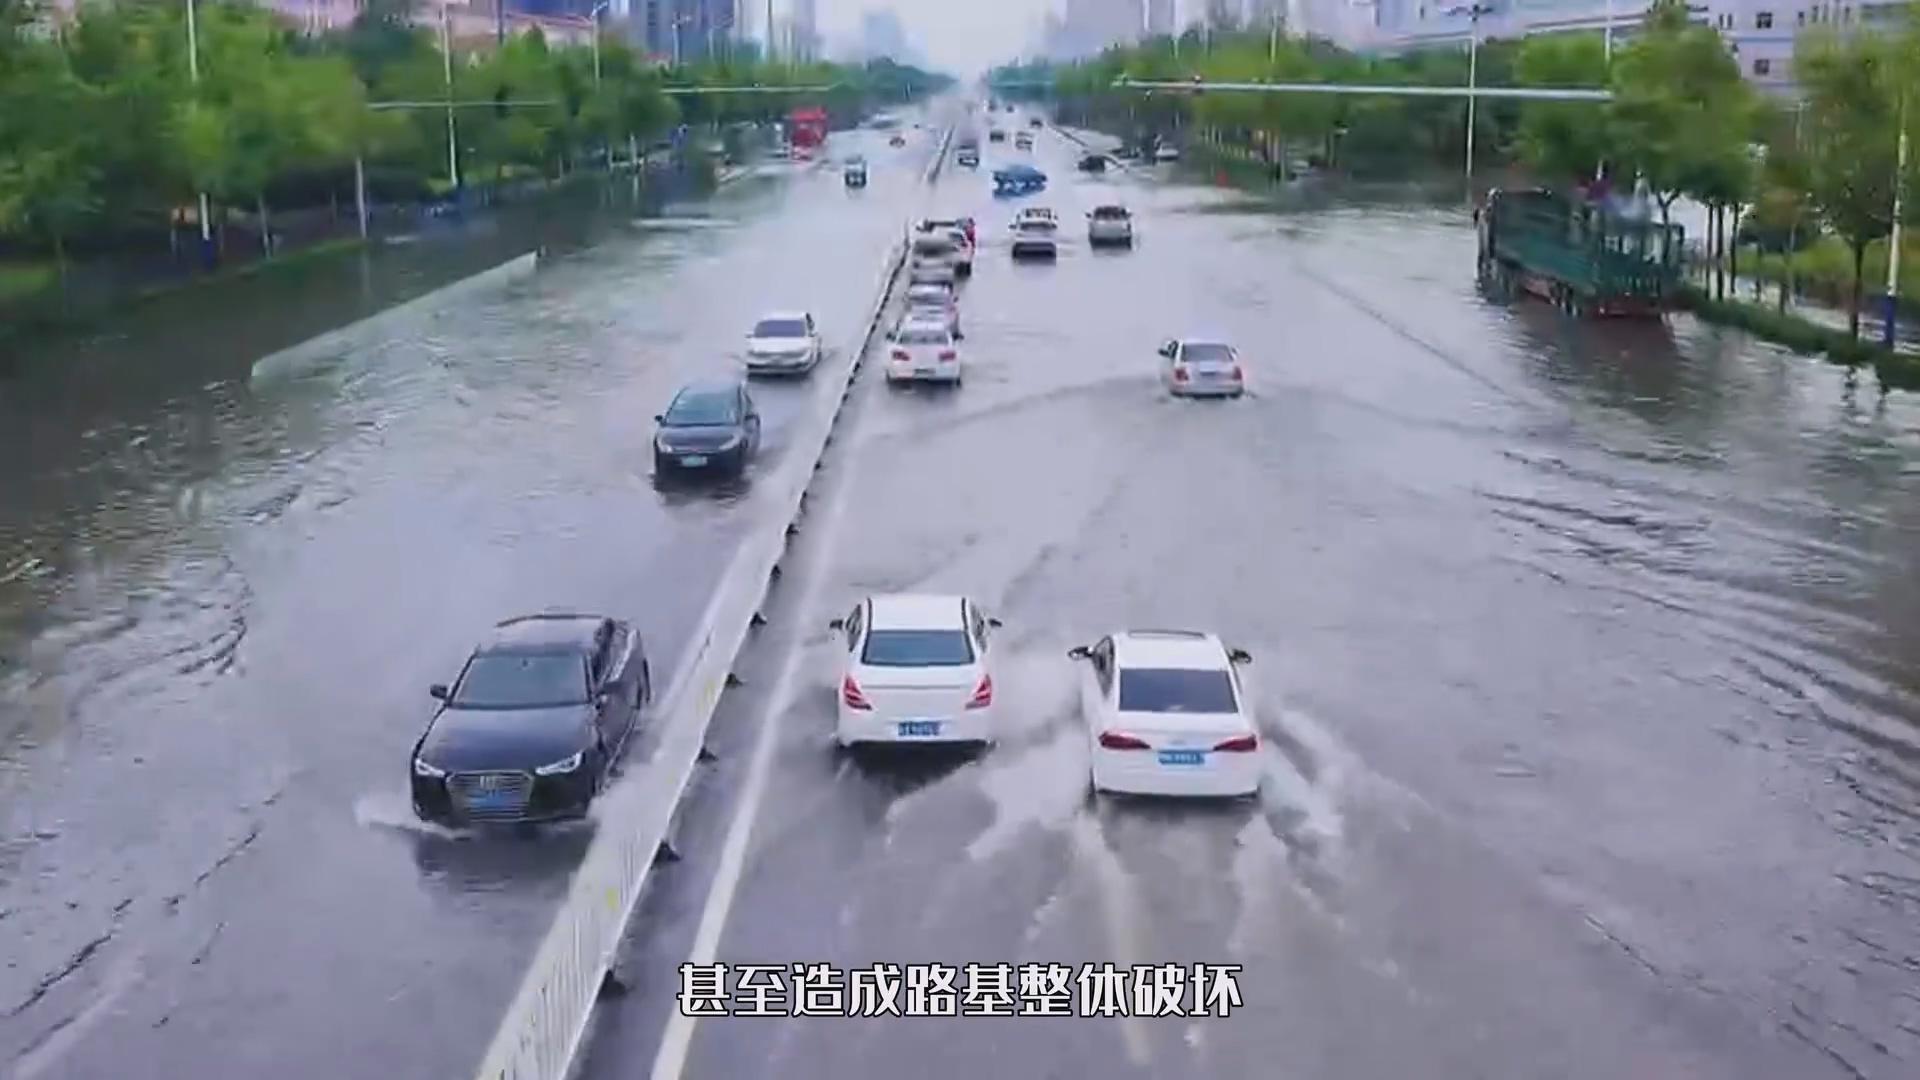puddle: (1, 281, 1920, 1080)
